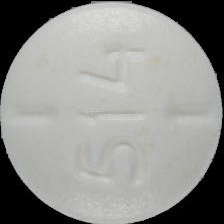10544-229: (0, 0, 224, 224)
